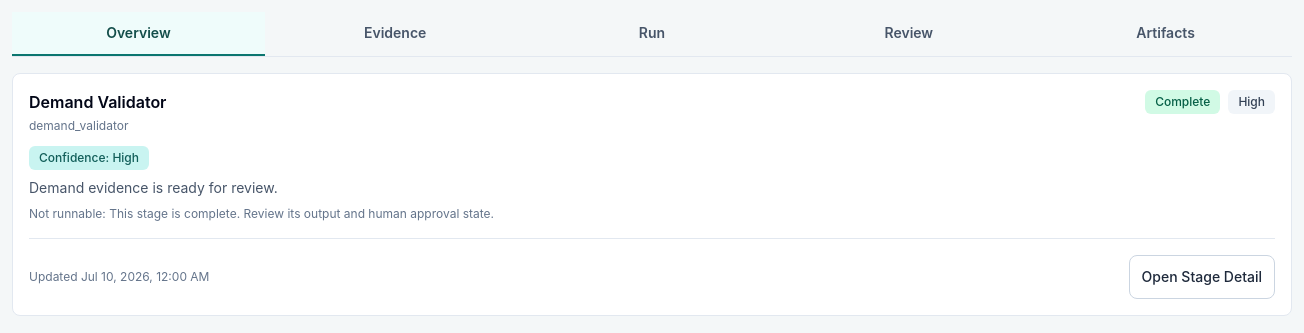
StageWorkbenchTabs › renders only the active tabpanel and keeps Advanced closed
Click the tab "Evidence" at point(395, 34), box left=269, top=12, right=522, bottom=56
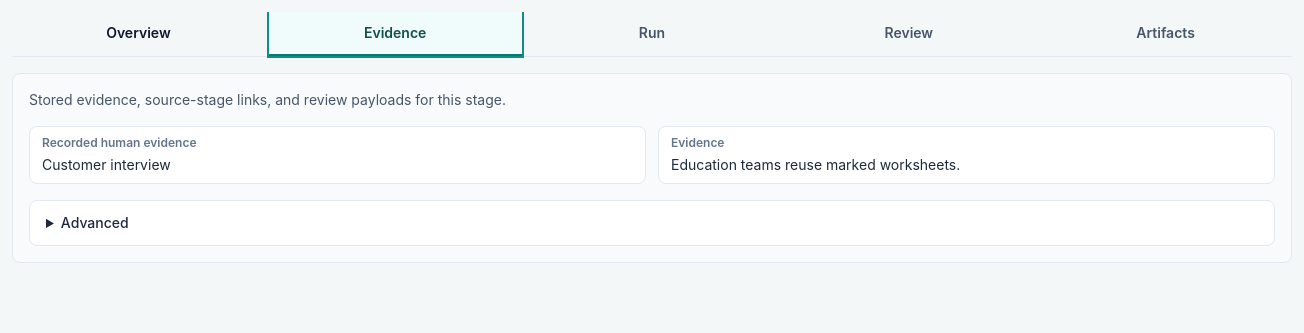
Expected: the number of panels is 1
